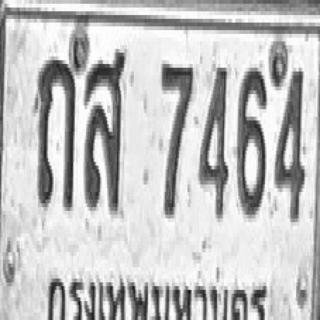A22: (35, 34, 83, 211)
A40: (83, 47, 125, 213)
N04: (272, 60, 304, 222), (197, 64, 228, 218)
N06: (236, 64, 266, 218)
N07: (160, 60, 194, 218)
